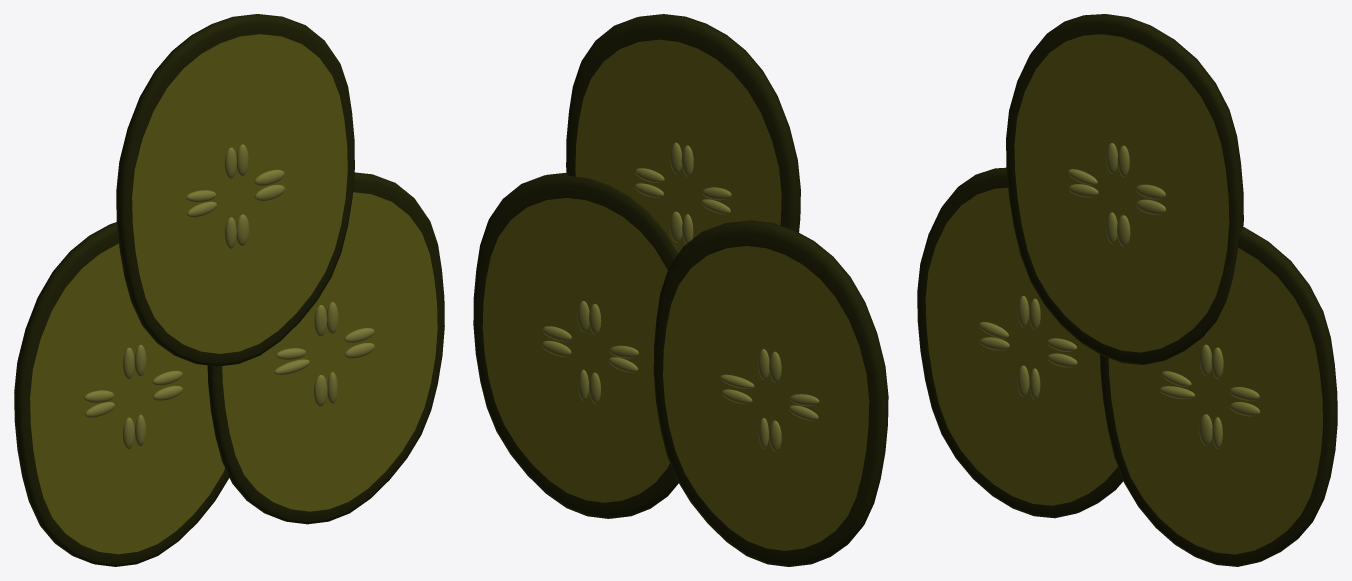
File: Pickles.FBX
3 renders of one model, left to right at view 1: azimuth 30°, elevation 25°; view 2: azimuth 150°, elevation 25°; view 3: azimuth 330°, elevation 25°, orthographic.
Visible parts, largest first — view 1: pickles002, pickles, pickles001; view 2: pickles001, pickles, pickles002; view 3: pickles002, pickles, pickles001.
Boxes of the visible parts, left/top/right/bottom form: pickles002: left=116, top=14, right=354, bottom=366; pickles: left=207, top=172, right=444, bottom=524; pickles001: left=14, top=222, right=229, bottom=566; pickles001: left=653, top=220, right=888, bottom=566; pickles: left=473, top=172, right=678, bottom=518; pickles002: left=566, top=14, right=800, bottom=253; pickles002: left=1006, top=14, right=1243, bottom=364; pickles: left=1100, top=227, right=1337, bottom=566; pickles001: left=917, top=167, right=1123, bottom=518.
Size of the model in its own units: 4.47 by 5.33 by 0.361.
